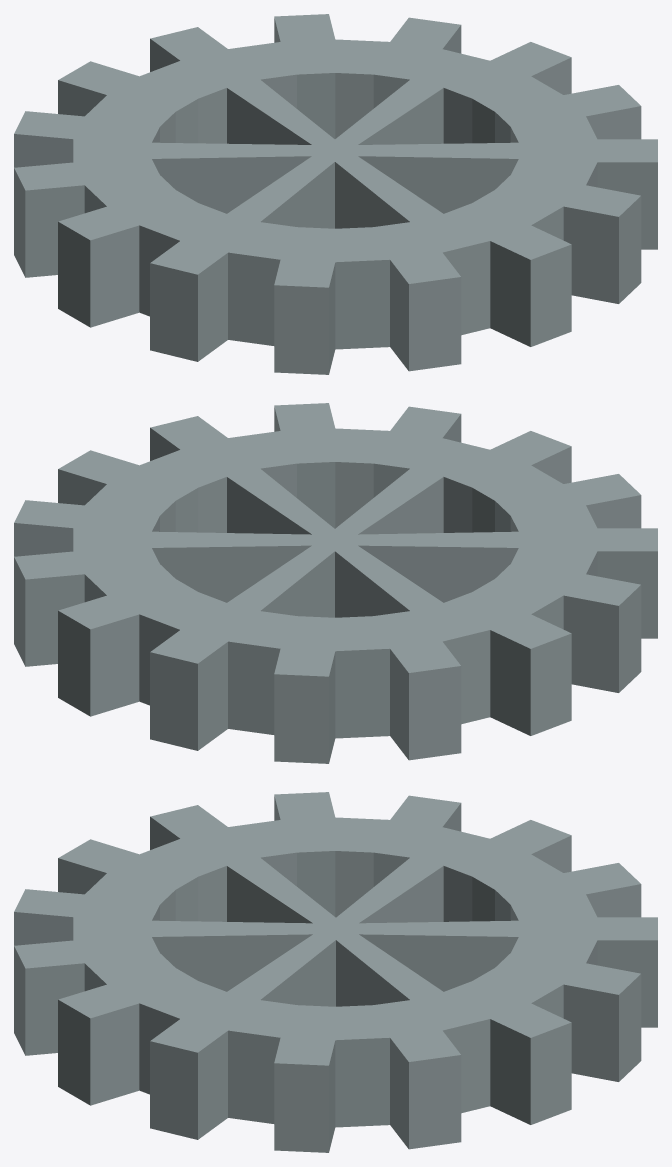
Rendered from RMirror_GearSmall.fbx.
3 views of the same model, one above another, from view 1: azimuth 30°, elevation 25°; view 2: azimuth 150°, elevation 25°; view 3: azimuth 270°, elevation 25° (orthographic).
Parts seen in each view (by area): view 1: Cylinder.001; view 2: Cylinder.001; view 3: Cylinder.001.
Part boxes in pixels (x1,y1,x2,y2): Cylinder.001: (14,14,657,374); Cylinder.001: (14,403,657,763); Cylinder.001: (14,792,657,1152).
Bounding box in the file's own units: 49.14 × 7.31 × 48.88.
